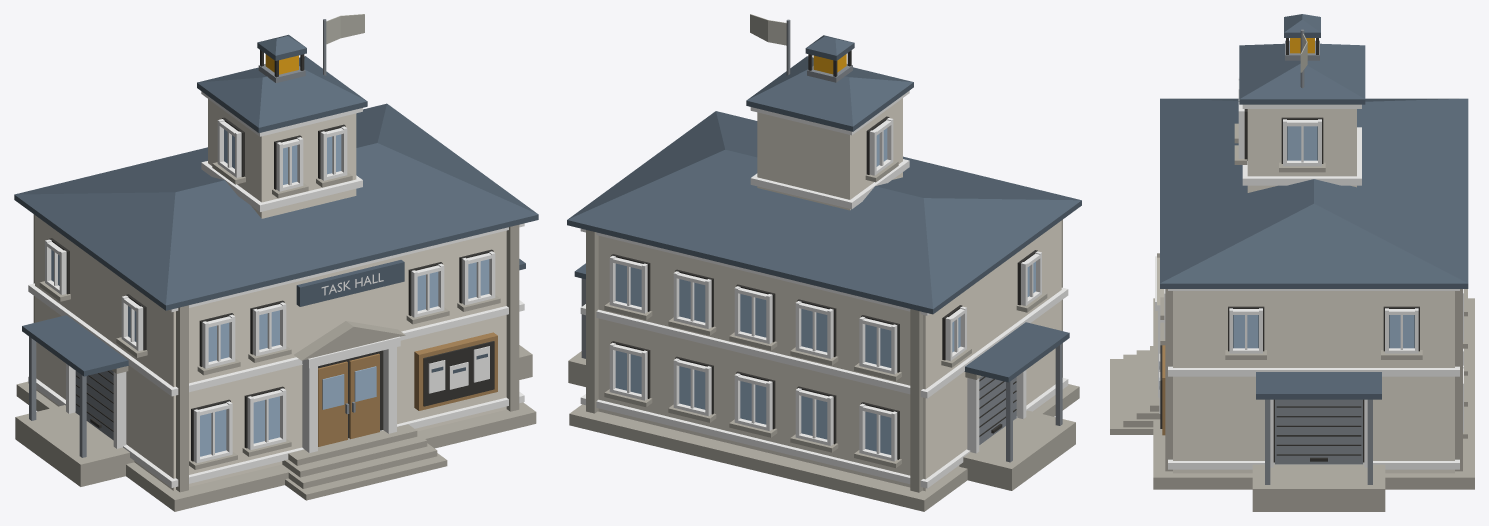
Rendered from hall.glb.
The picture shows the model from 3 angles, left to right: view 1: azimuth 30°, elevation 25°; view 2: azimuth 150°, elevation 25°; view 3: azimuth 270°, elevation 25°; orthographic projection. The views are drawn at different scales.
Parts seen in each view (by area): view 1: hall_structure, flag; view 2: hall_structure, flag; view 3: hall_structure.
Boxes of the visible parts, x1,y1,x2,y2 form: hall_structure: (14,19,538,511); flag: (326,14,364,44); hall_structure: (567,19,1081,511); flag: (750,14,786,45); hall_structure: (1110,14,1474,511).
Bounding box in the file's own units: 16 × 13 × 11.
